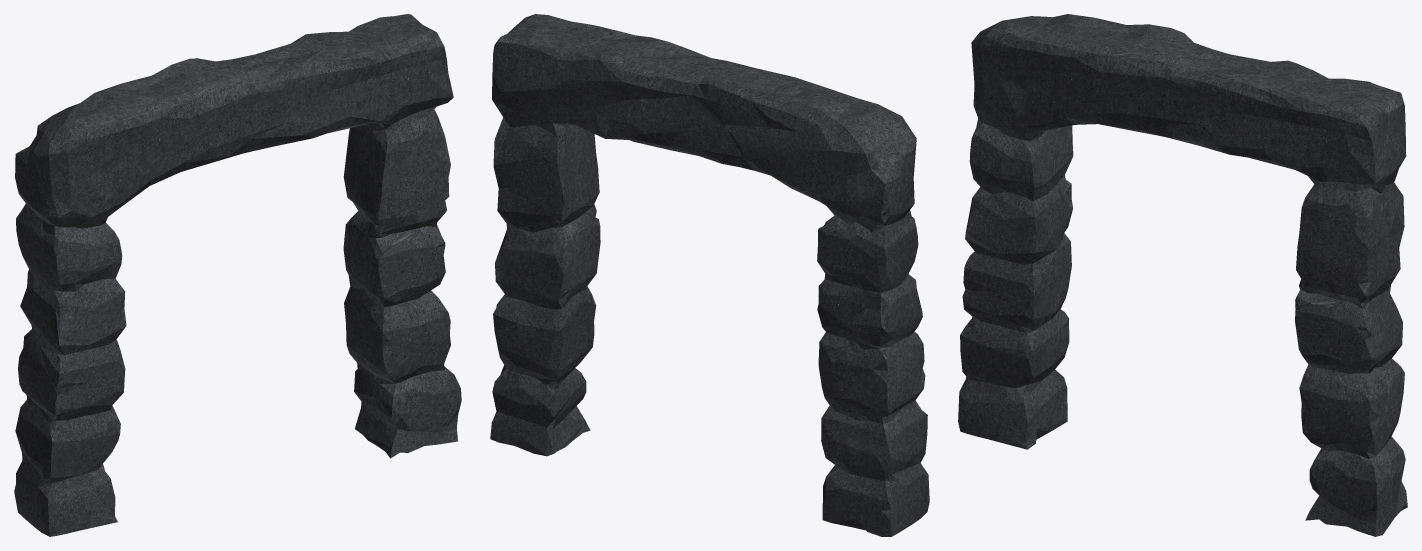
File: door-stone-01.fbx
3 views of the same model, side by side, from view 1: azimuth 30°, elevation 25°; view 2: azimuth 150°, elevation 25°; view 3: azimuth 330°, elevation 25° (orthographic). The views are drawn at different scales.
Parts seen in each view (by area): view 1: door-stone-01; view 2: door-stone-01; view 3: door-stone-01.
Part boxes in pixels (left/top/right/bottom): door-stone-01: left=14, top=14, right=461, bottom=536; door-stone-01: left=490, top=14, right=929, bottom=536; door-stone-01: left=958, top=14, right=1407, bottom=536.
Size of the model in its own units: 193 by 186 by 33.79.
